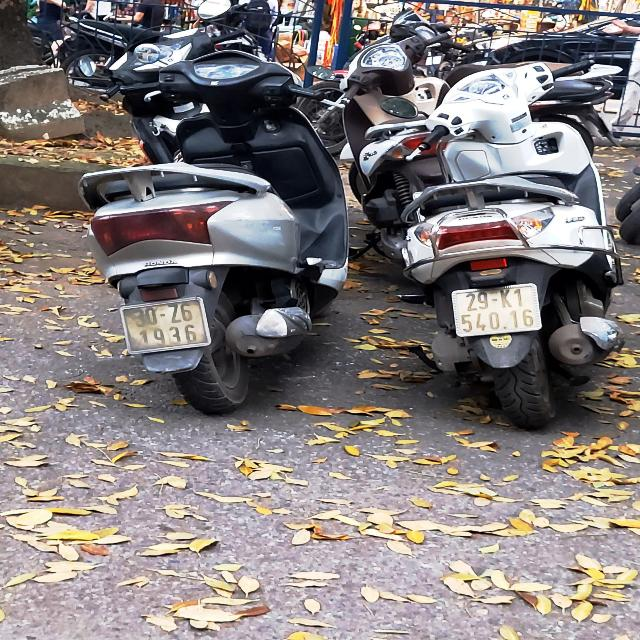license_plate: (123, 299, 209, 354), (453, 284, 542, 336)
